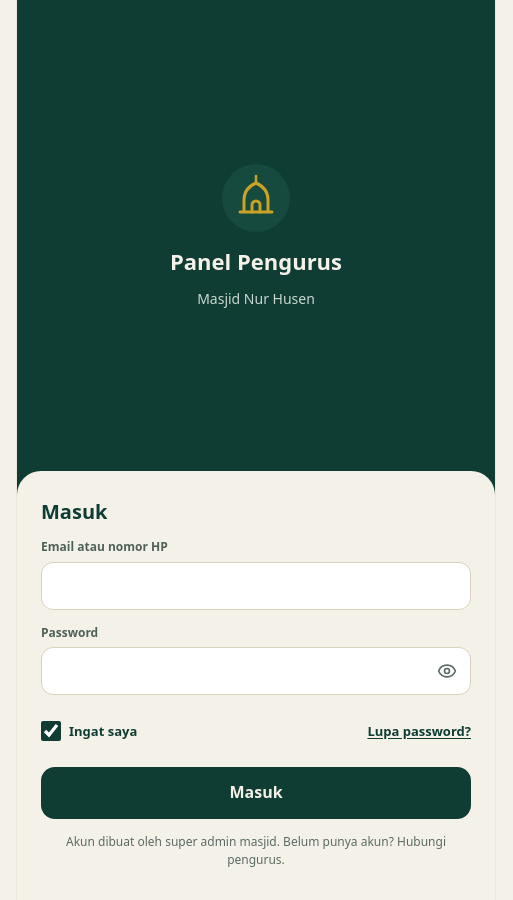
Scenario: LoginPage › refuses a disabled account
The width and height of the screenshot is (513, 900).
Type "0812-3456-1003" into the field labelled "Email atau nomor HP" at (256, 586), box x1=41 y1=562 x2=471 y2=610
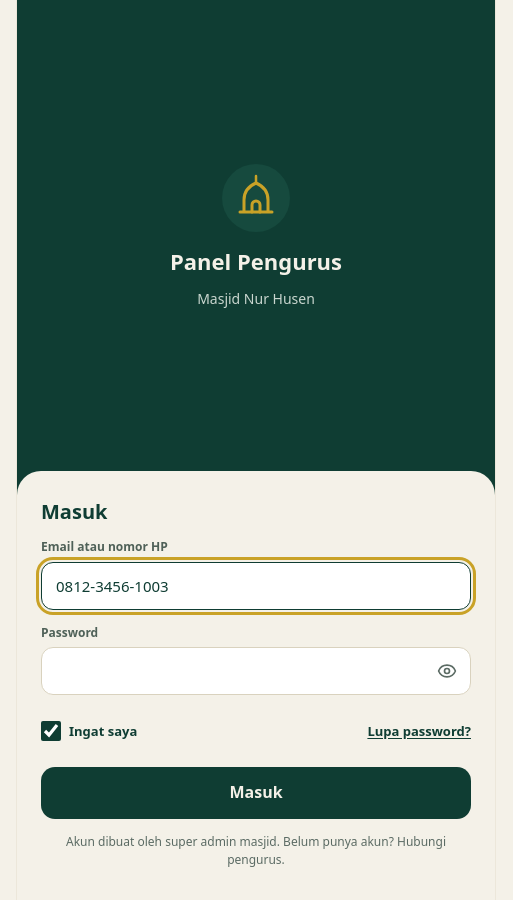
Type "masjid123" into the password field labelled "Password" at (256, 671), box x1=41 y1=647 x2=471 y2=695
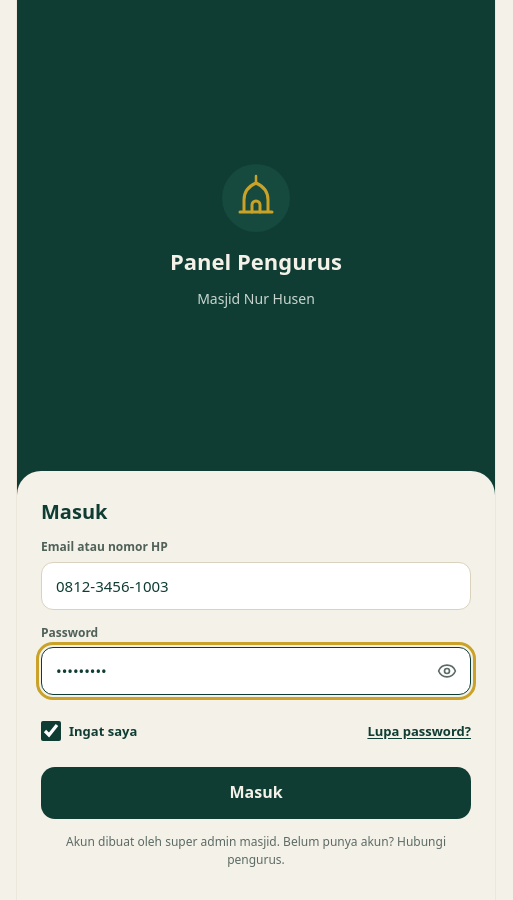
Click the button "Masuk" at (256, 793), box x1=41 y1=767 x2=471 y2=819
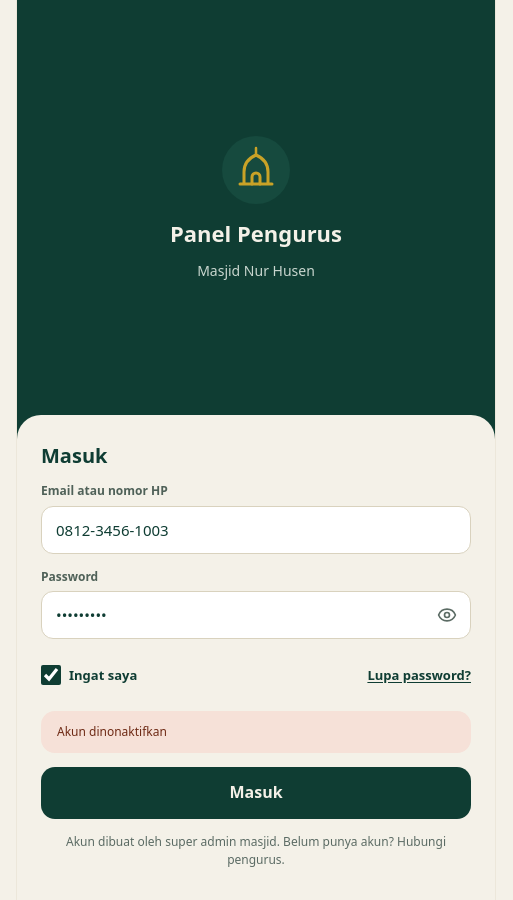
Check: the message reads "Akun dinonaktifkan", box x1=57 y1=723 x2=167 y2=740
